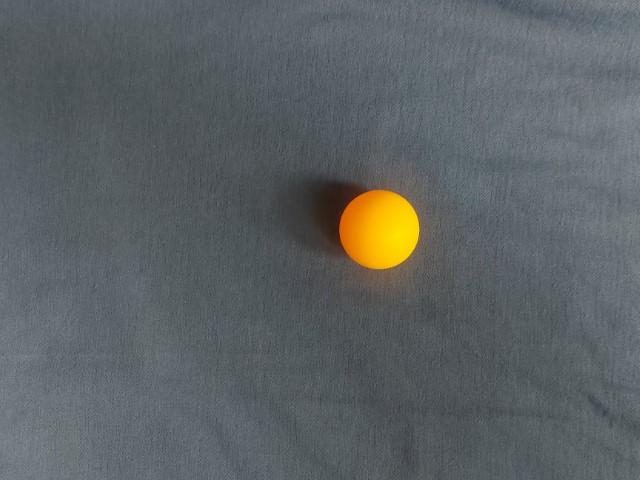oball: (333, 186, 423, 275)
